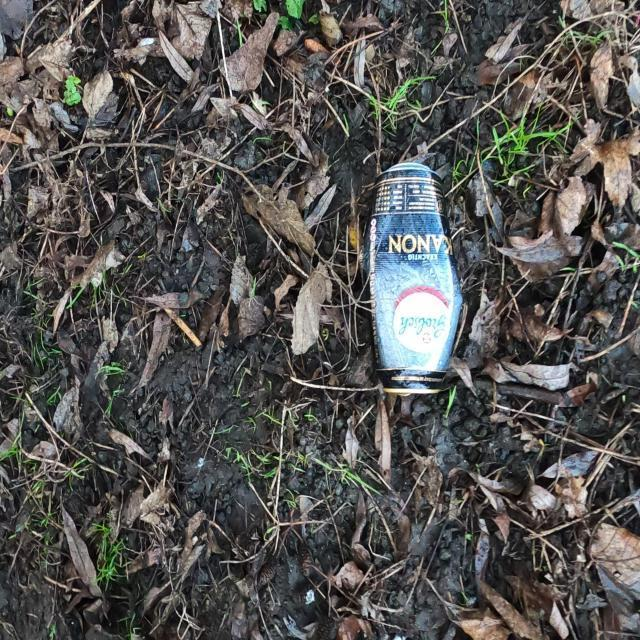Can-Metal: (366, 160, 466, 398)
